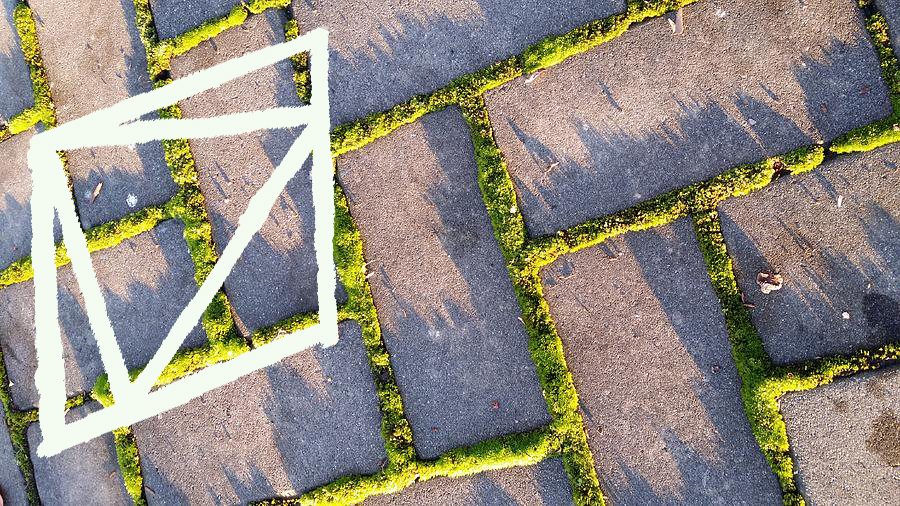marker: (24, 21, 348, 463)
